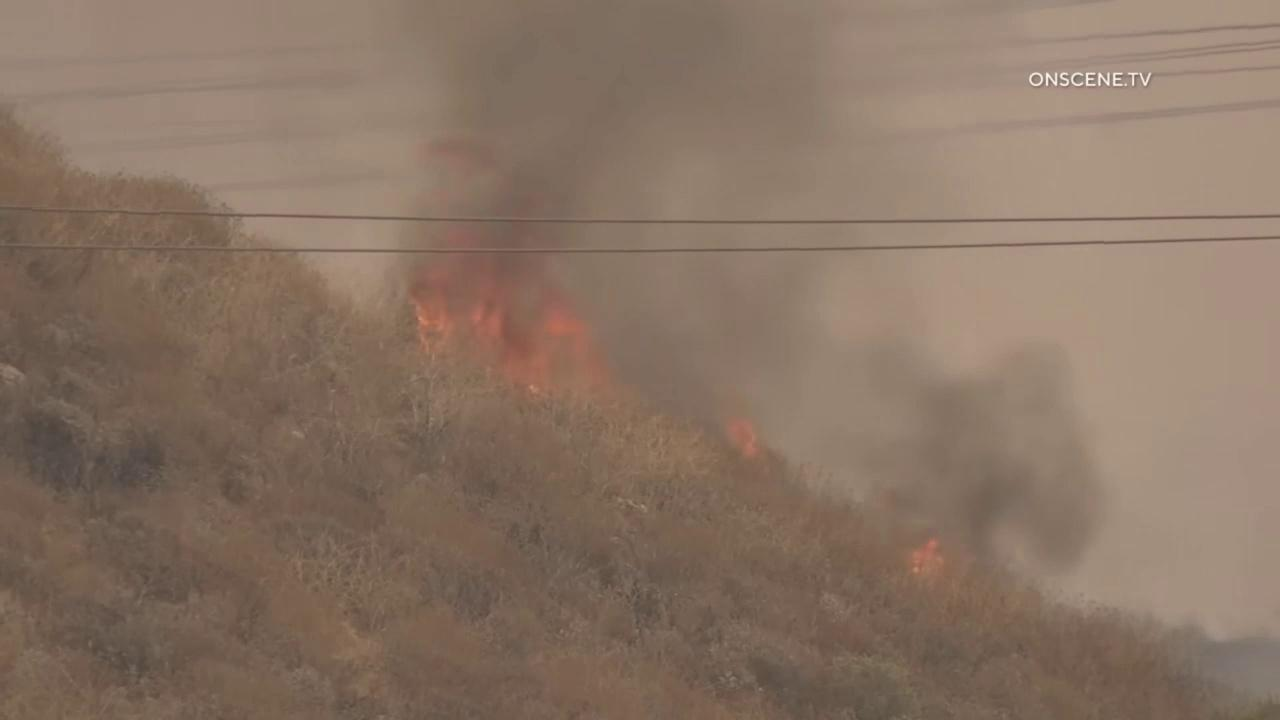fire: (403, 229, 610, 401), (908, 536, 947, 579), (723, 416, 761, 459)
smoke: (0, 0, 1280, 720)
